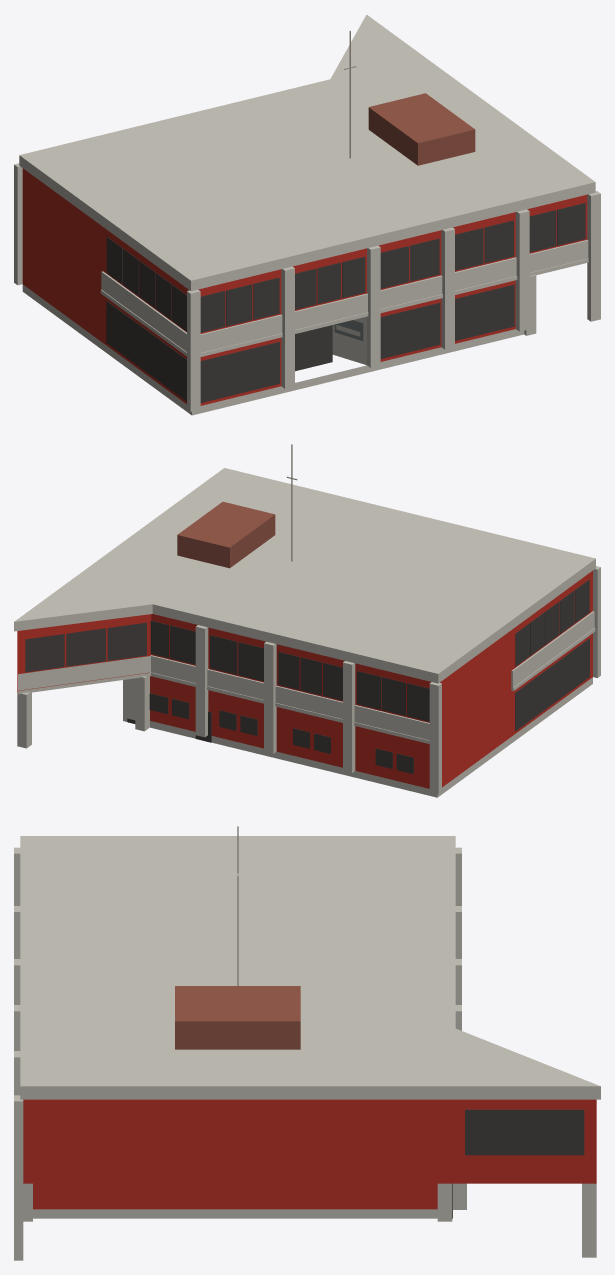
File: cyxd_aerocentre.gltf
3 renders of one model, top to bottom at view 1: azimuth 30°, elevation 25°; view 2: azimuth 150°, elevation 25°; view 3: azimuth 270°, elevation 25°, orthographic. The views are drawn at different scales.
Visible parts, largest first — view 1: cyxd_aerocentre; view 2: cyxd_aerocentre; view 3: cyxd_aerocentre.
Boxes of the visible parts, x1,y1,x2,y2 form: cyxd_aerocentre: (14,14,600,415); cyxd_aerocentre: (14,444,600,797); cyxd_aerocentre: (14,826,600,1260).
Size of the model in its own units: 28.7 by 17.6 by 28.05.
